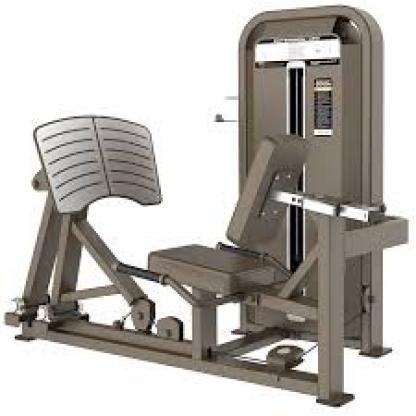leg press: (0, 3, 414, 411)
